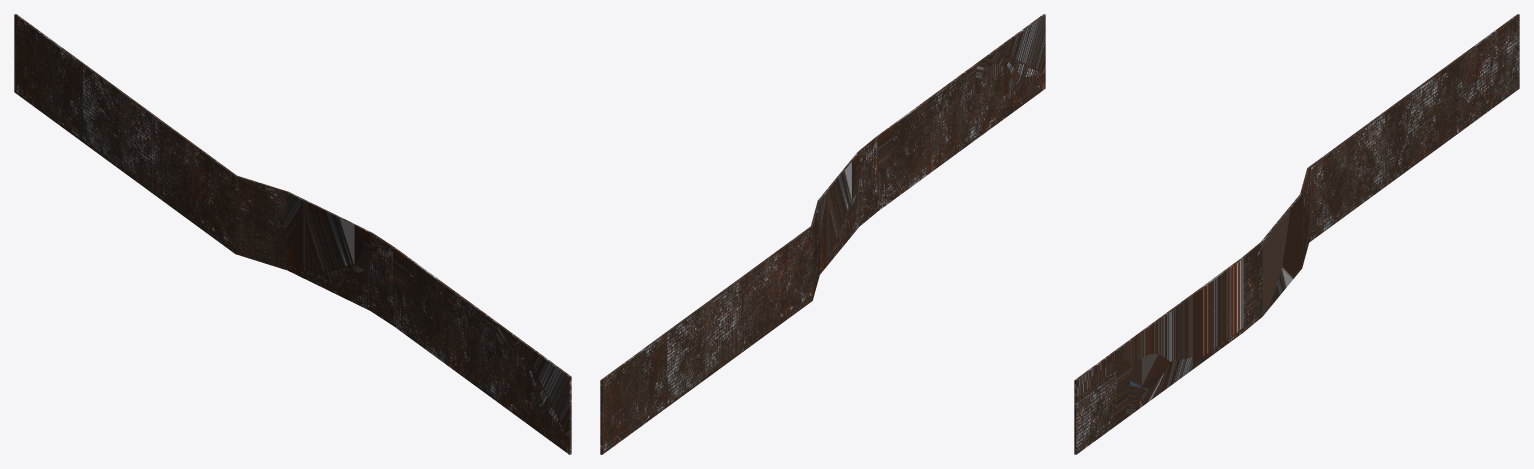
Rendered from Valla1.obj.
3 views of the same model, side by side, from view 1: azimuth 30°, elevation 25°; view 2: azimuth 150°, elevation 25°; view 3: azimuth 330°, elevation 25° (orthographic). The views are drawn at different scales.
Visible parts, largest first — view 1: Valla1; view 2: Valla1; view 3: Valla1.
Boxes of the visible parts, left/top/right/bottom form: Valla1: left=14, top=14, right=571, bottom=454; Valla1: left=600, top=14, right=1045, bottom=454; Valla1: left=1074, top=14, right=1519, bottom=454.
Bounding box in the file's own units: 10.22 × 16.27 × 193.
